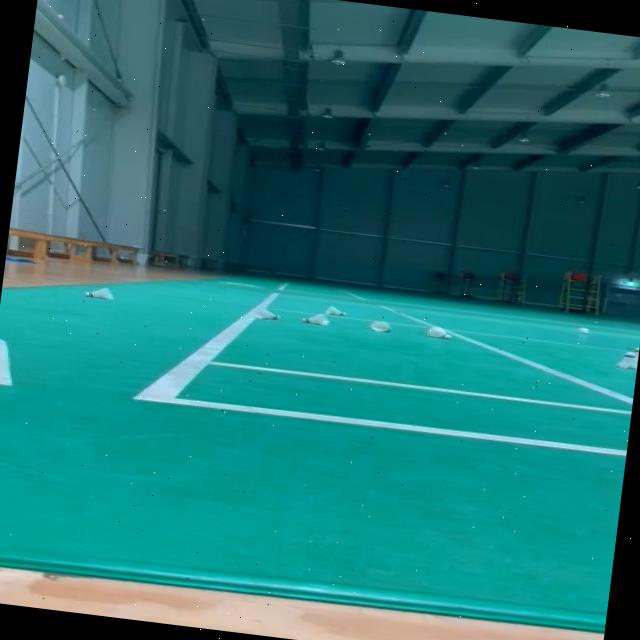Shuttle: (84, 282, 115, 302), (614, 349, 638, 370), (301, 310, 330, 326), (254, 306, 282, 322), (426, 324, 454, 339), (368, 318, 394, 333), (326, 304, 346, 316), (630, 345, 639, 364), (576, 325, 590, 334)
